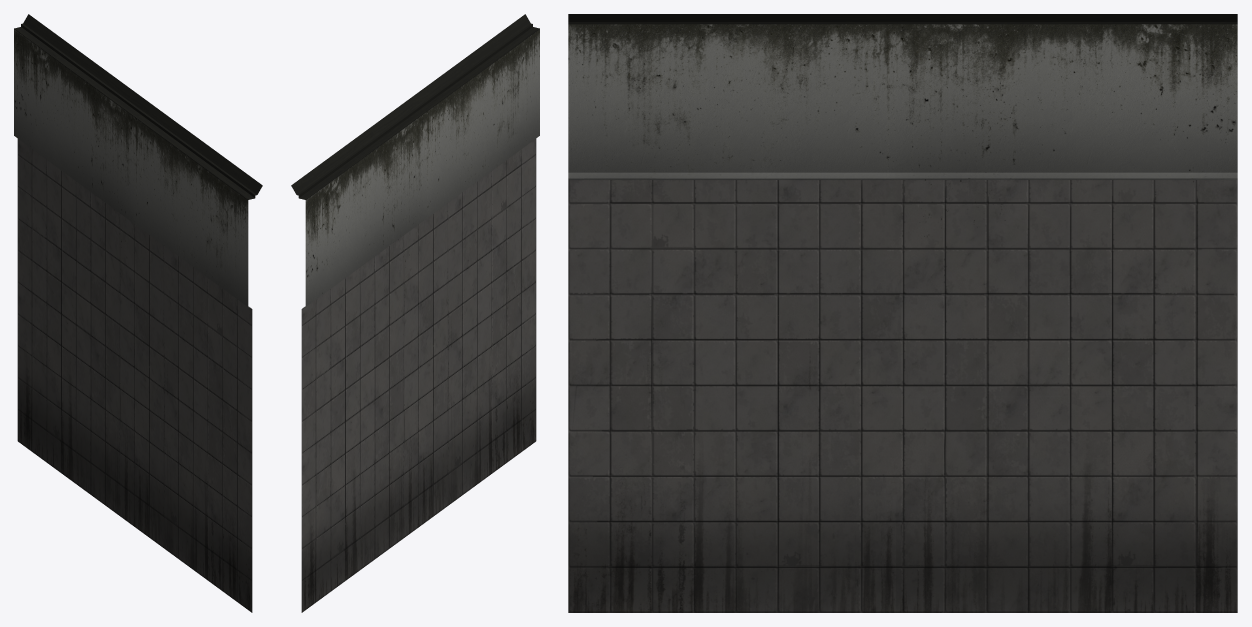
The model's file is FPH_WallBathroom.fbx.
3 views of the same model, side by side, from view 1: azimuth 30°, elevation 25°; view 2: azimuth 150°, elevation 25°; view 3: azimuth 270°, elevation 25° (orthographic). The views are drawn at different scales.
Parts seen in each view (by area): view 1: muro; view 2: muro; view 3: muro.
Part boxes in pixels (<box>): muro: <box>14,14,262,612</box>; muro: <box>291,14,539,612</box>; muro: <box>568,14,1237,612</box>.
Size of the model in its own units: 0.4733 by 13.3 by 13.3.
Materials: 1 (1 with a texture image).
